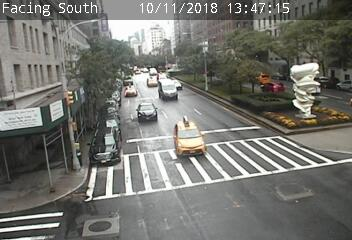car: (90, 127, 120, 166), (174, 120, 205, 155), (158, 79, 177, 101), (138, 102, 156, 121), (261, 81, 284, 94), (246, 72, 270, 84), (167, 79, 182, 90), (124, 85, 137, 96), (147, 77, 158, 87)
